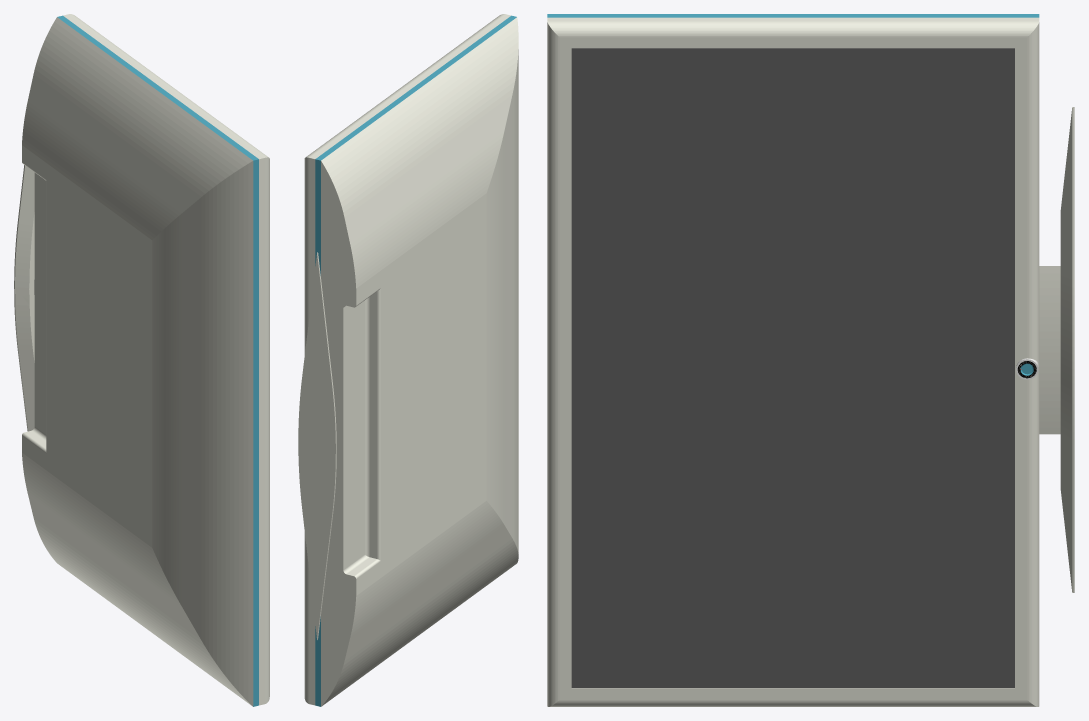
The picture shows the model from 3 angles, left to right: view 1: azimuth 30°, elevation 25°; view 2: azimuth 150°, elevation 25°; view 3: azimuth 270°, elevation 25°; orthographic projection. The views are drawn at different scales.
Parts seen in each view (by area): view 1: widescreen hd tv; view 2: widescreen hd tv; view 3: widescreen hd tv.
Boxes of the visible parts, left/top/right/bottom form: widescreen hd tv: left=14, top=14, right=269, bottom=706; widescreen hd tv: left=298, top=14, right=518, bottom=706; widescreen hd tv: left=547, top=14, right=1074, bottom=706.
Bounding box in the file's own units: 4.6 × 42.27 × 29.5.
